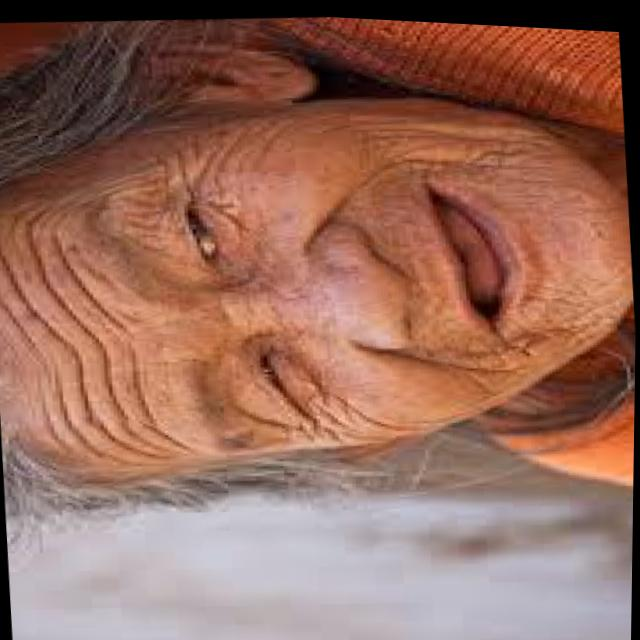Wrinkles: (0, 239, 168, 455), (23, 205, 169, 450), (50, 208, 194, 448), (0, 291, 172, 462), (294, 351, 433, 429), (311, 120, 532, 157), (171, 113, 271, 193), (408, 350, 544, 388), (247, 116, 293, 166)
